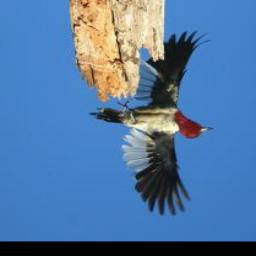Woodpecker: (88, 30, 214, 217)
